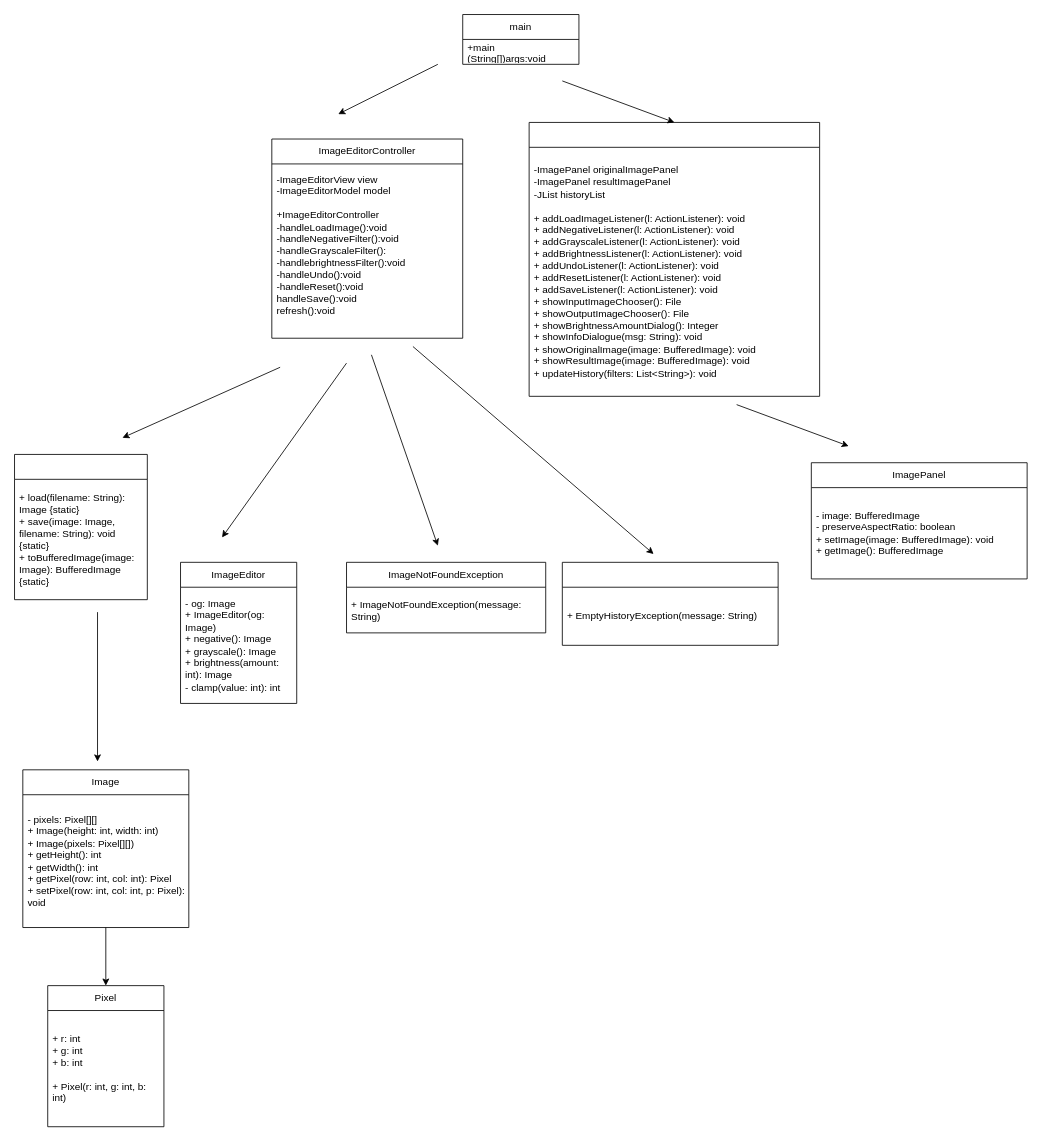
Image size: 1042x1141. Some labels were removed from this diagram. The shapes that lost their labels are listed below. From the top down, each one's box as (x1, y1, x2, y2) in pixels, then its label:
(528, 122, 820, 396): ImageEditorView
(14, 454, 147, 600): ImageUtils
(561, 561, 778, 645): ImageHistoryException
